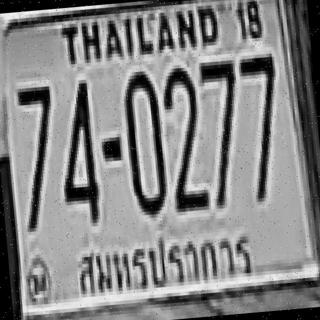N00: (121, 68, 167, 214)
N02: (160, 65, 206, 211)
N04: (52, 78, 100, 224)
N07: (238, 51, 284, 200), (198, 57, 244, 206), (15, 83, 61, 228), (16, 84, 58, 207)
P57: (65, 225, 262, 302)
